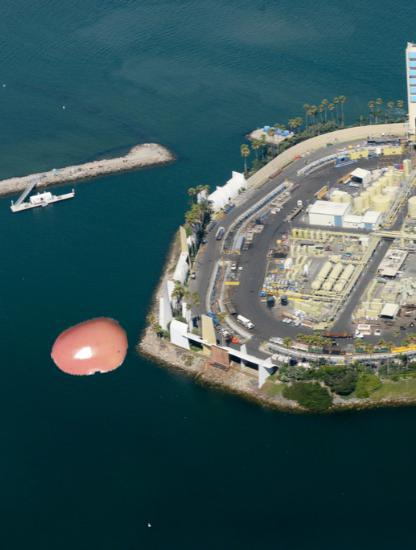Kaki: (50, 308, 128, 386)
